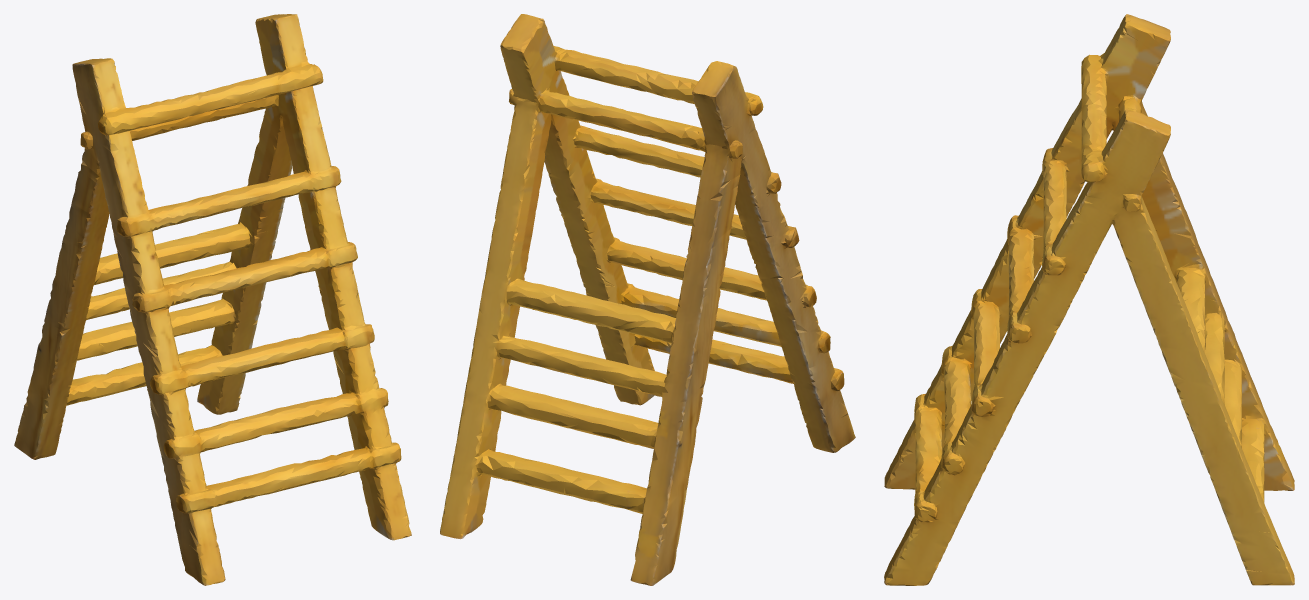
3 renders of one model, left to right at view 1: azimuth 30°, elevation 25°; view 2: azimuth 150°, elevation 25°; view 3: azimuth 270°, elevation 25°, orthographic. The views are drawn at different scales.
Visible parts, largest first — view 1: MatchstickLadder; view 2: MatchstickLadder; view 3: MatchstickLadder.
Part boxes in pixels (<box>): MatchstickLadder: <box>14,14,411,585</box>; MatchstickLadder: <box>440,14,855,585</box>; MatchstickLadder: <box>884,14,1294,585</box>.
Bounding box in the file's own units: 0.9873 × 1.9 × 1.52.
1 material, 1 textured.
